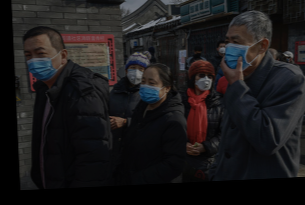with_mask: (225, 31, 259, 72), (24, 42, 60, 80), (138, 73, 163, 103), (193, 70, 213, 90), (126, 64, 146, 83), (218, 44, 227, 54), (194, 50, 202, 58)
